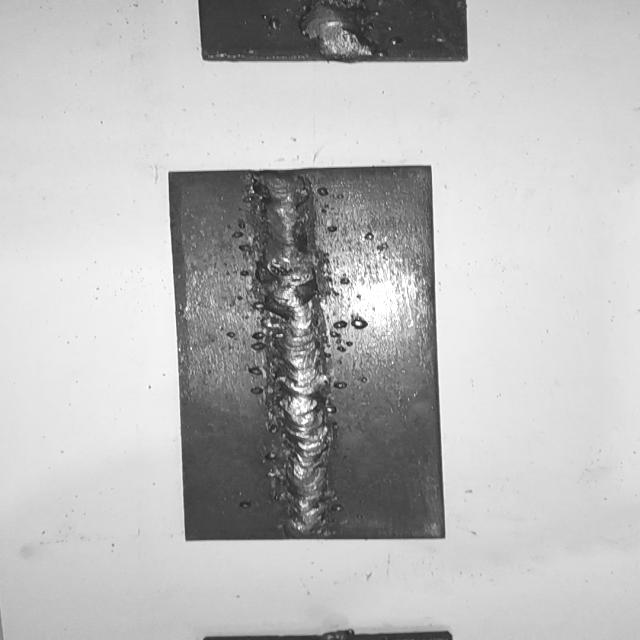Bad Weld: (252, 175, 340, 534)
Defect: (236, 243, 354, 324)
